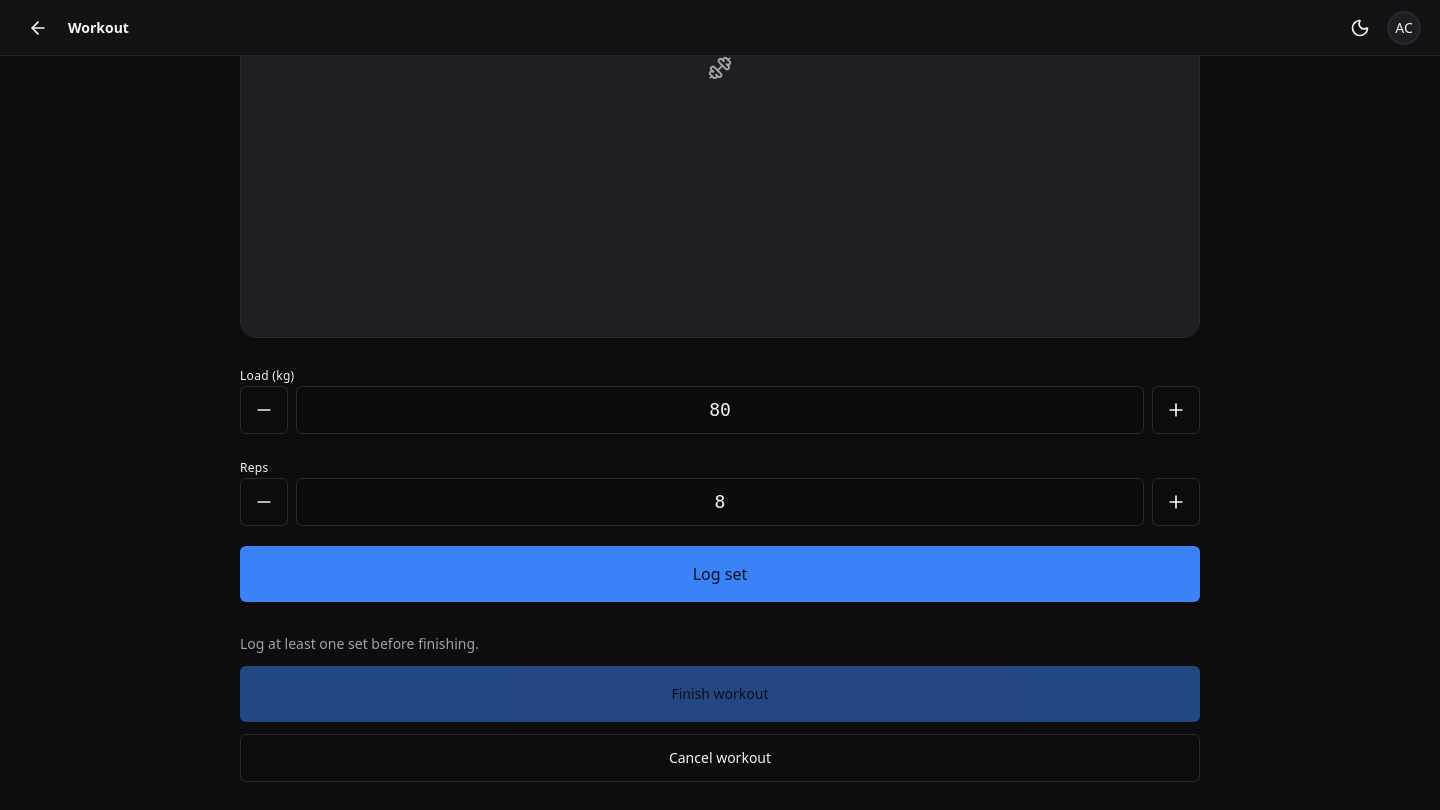
Scenario: Workout experience › logs a set against the generated replace-sets contract and shows rest remaining
The image size is (1440, 810).
(page scrolled)
Expected: the field labelled "Load (kg)" holds "80", [296,386,1144,434]
Expected: the field labelled "Reps" holds "8", [296,478,1144,526]
What coordinates should you click on to do the following:
click the button "Log set"
I would click on:
 (720, 574)
Its box is [240,546,1200,602].
(page scrolled)
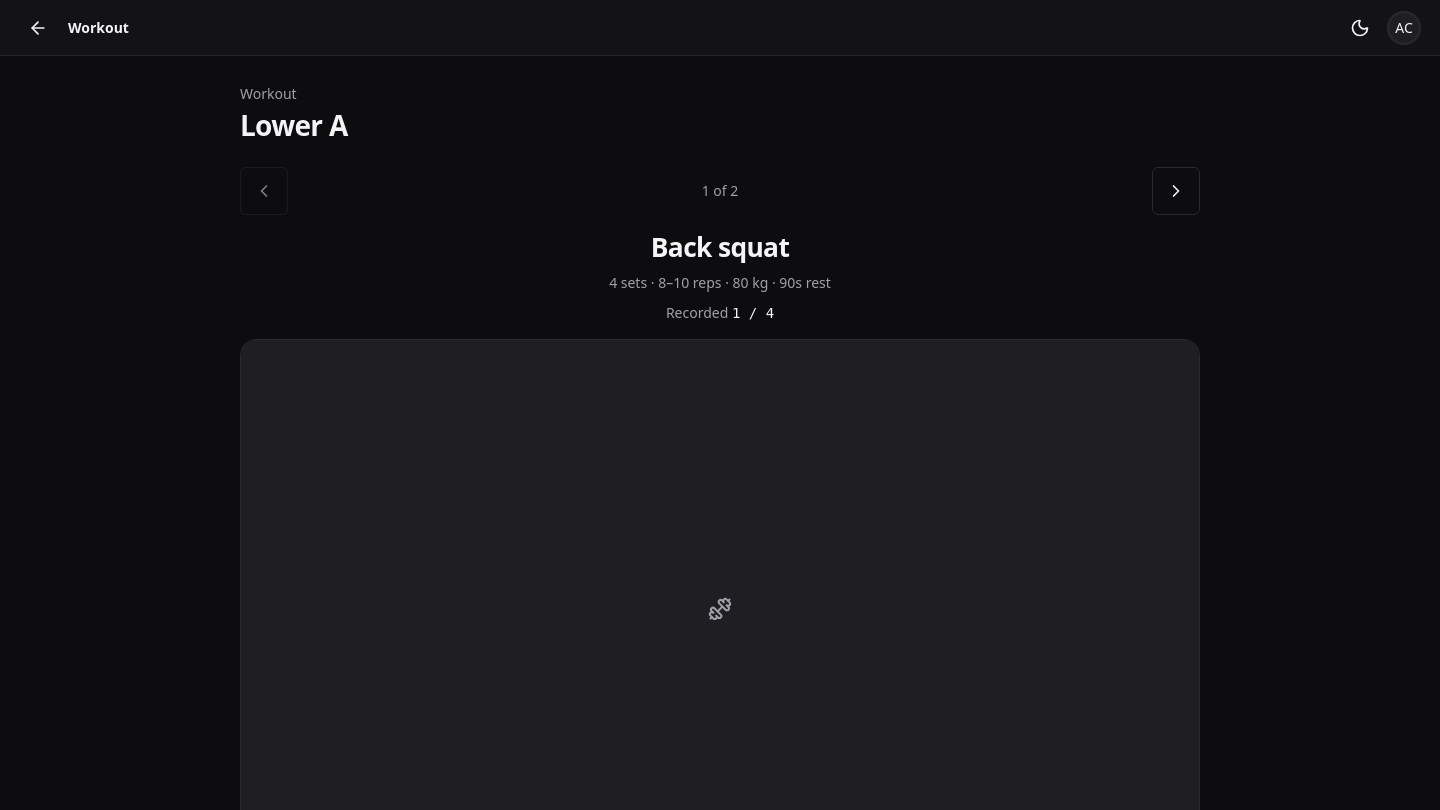
Expected: the text "1 / 4" is shown, [732,305,774,321]
